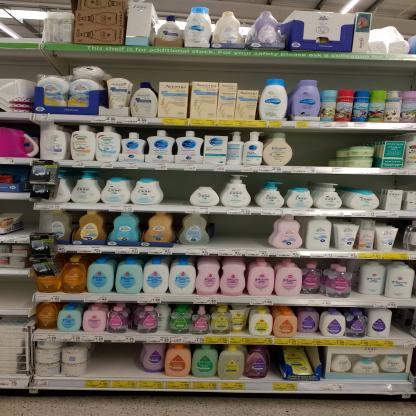Void: (130, 58, 257, 83), (322, 65, 409, 89), (215, 216, 269, 248), (8, 52, 62, 74), (95, 346, 137, 374), (293, 133, 324, 163), (257, 62, 307, 79), (163, 172, 184, 202), (3, 274, 18, 306), (76, 54, 113, 64), (394, 310, 408, 334), (339, 134, 366, 146), (23, 206, 36, 230)
